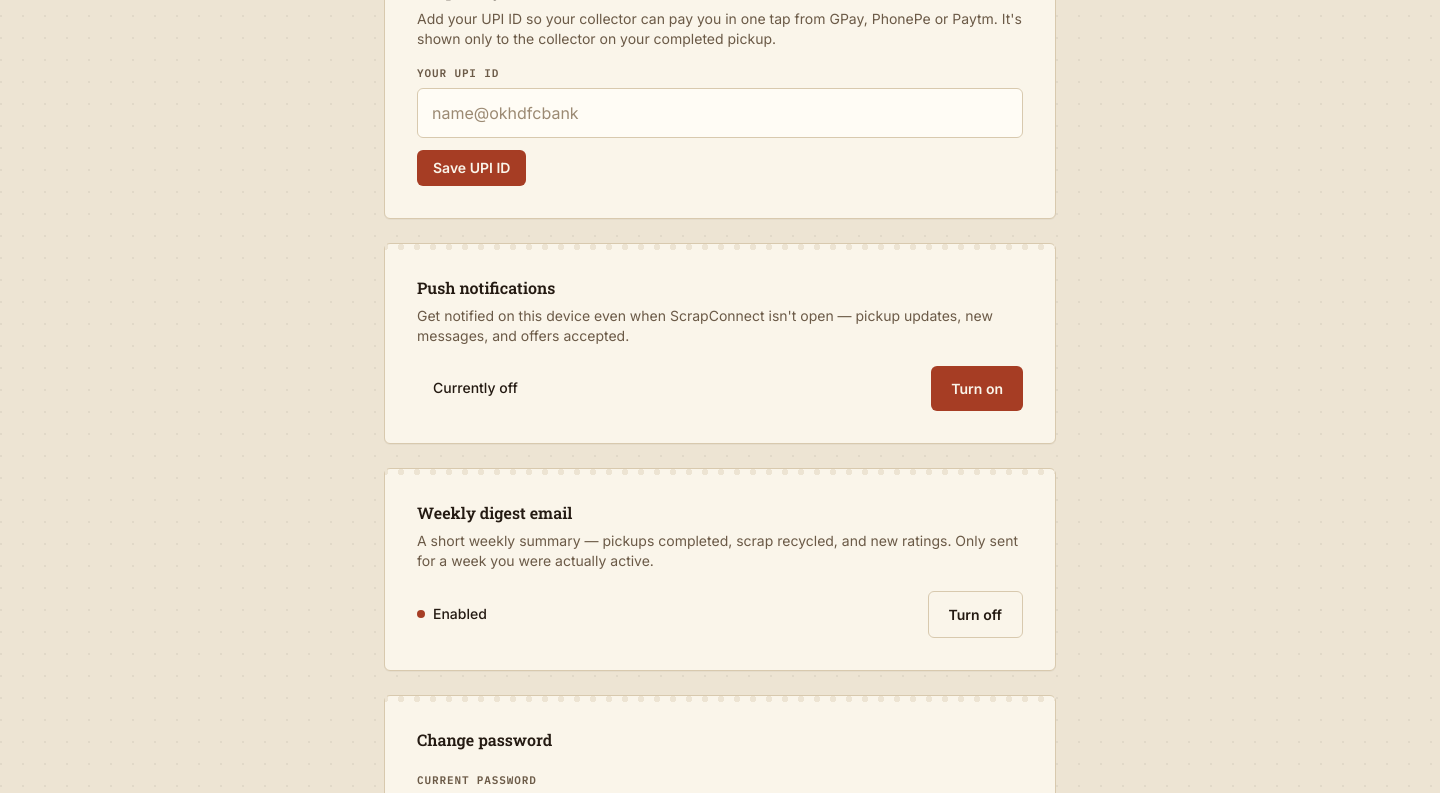
Test: Profile — push notifications › enabling push flips the UI to Enabled and Turn off
The width and height of the screenshot is (1440, 793).
(page scrolled)
Click the button "Turn on". click: [977, 388]
box: left=931, top=366, right=1023, bottom=410
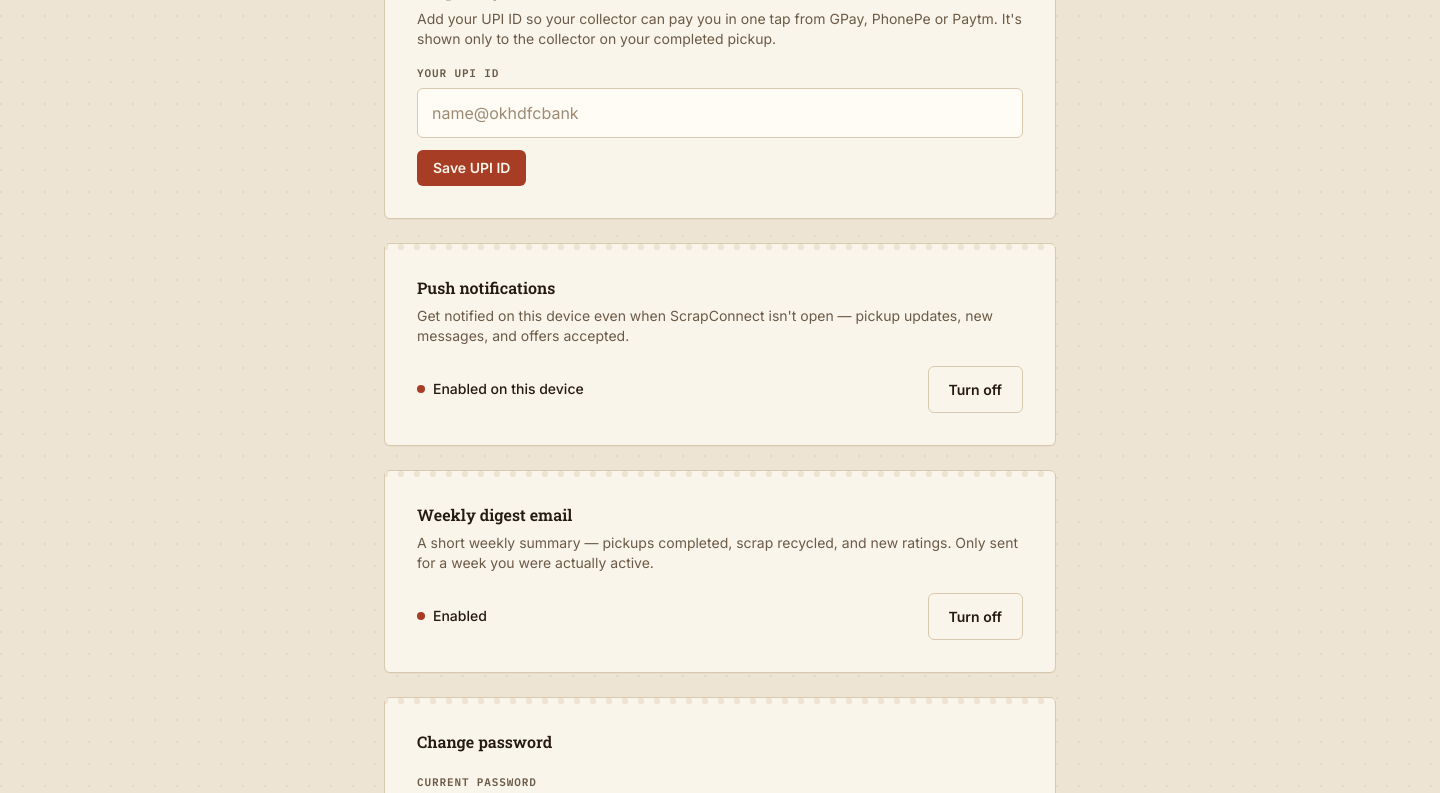
Result: the text "Enabled on this device" is shown at left=417, top=379, right=584, bottom=399
Result: the button "Turn off" in the row of "Enabled on this device" is shown at left=928, top=366, right=1023, bottom=412
